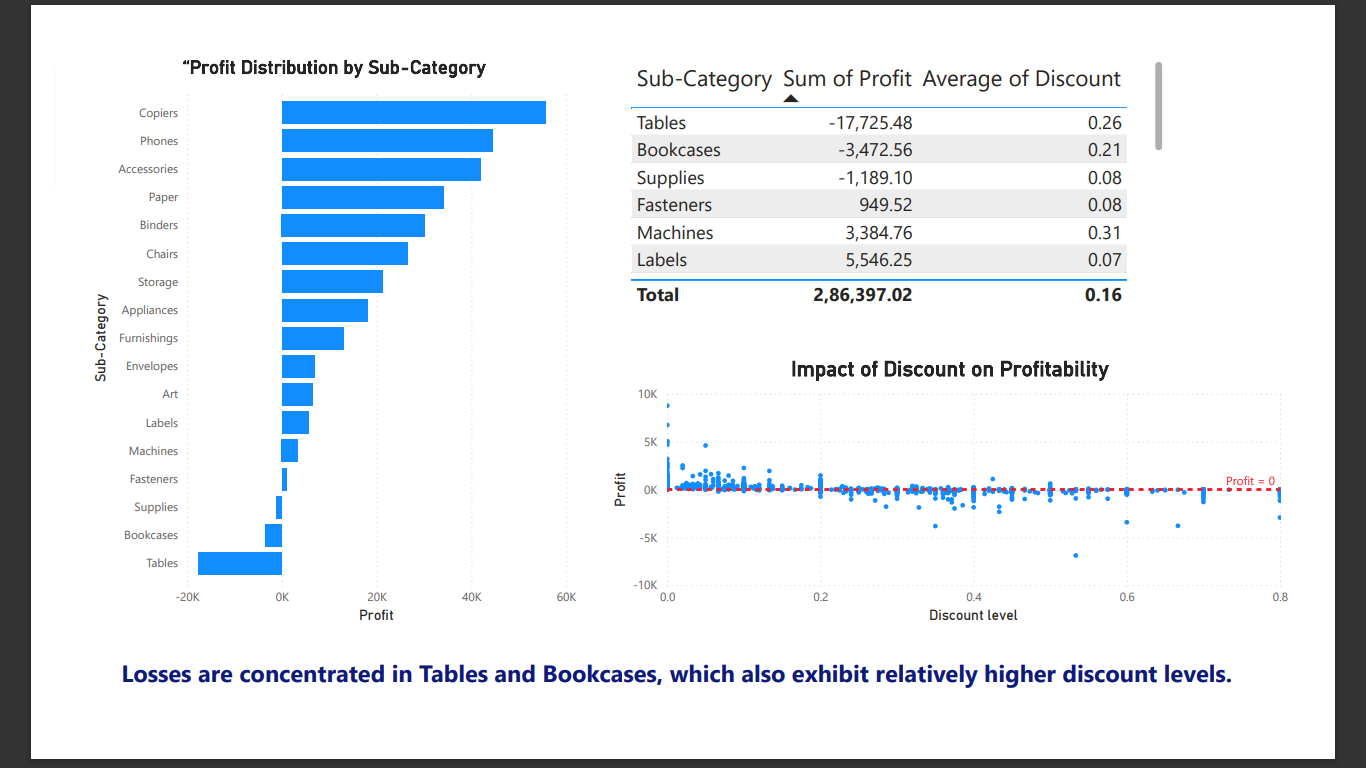

Layout of this report page (visuals, bound fields, positions):
{"tool":"powerbi","page":{"name":"Profit Analysis","canvas":[1280,720],"ordinal":1},"visuals":[{"type":"clusteredBarChart","title":"“Profit Distribution by Sub-Category","fields":{"Category":["superstore.Sub-Category"],"Y":["Sum(superstore.Profit)"]},"box":[33.8,27.9,502.5,581.9],"z":0},{"type":"scatterChart","title":"Impact of Discount on Profitability","fields":{"X":["Avg(superstore.Discount)"],"Y":["Sum(superstore.Profit)"],"Category":["superstore.Order ID"]},"box":[562.8,333.6,698,276.2],"z":1000},{"type":"tableEx","fields":{"Values":["superstore.Sub-Category","Sum(superstore.Profit)","Avg(superstore.Discount)"]},"box":[581.9,27.9,552.5,261.6],"z":2000},{"type":"textbox","box":[63.2,634.8,1197.6,54.4],"z":3000}]}

Visuals, with their boxes in screenshot pixels (x1, y1, x2, y2), scaled from the page's 1280x720 canvas onto the 1366x768 screenshot:
"“Profit Distribution by Sub-Category" clusteredBarChart: bbox=(36, 30, 572, 650)
"Impact of Discount on Profitability" scatterChart: bbox=(601, 356, 1346, 650)
tableEx - superstore.Sub-Category x Sum(superstore.Profit): bbox=(621, 30, 1211, 309)
textbox: bbox=(67, 677, 1346, 735)
